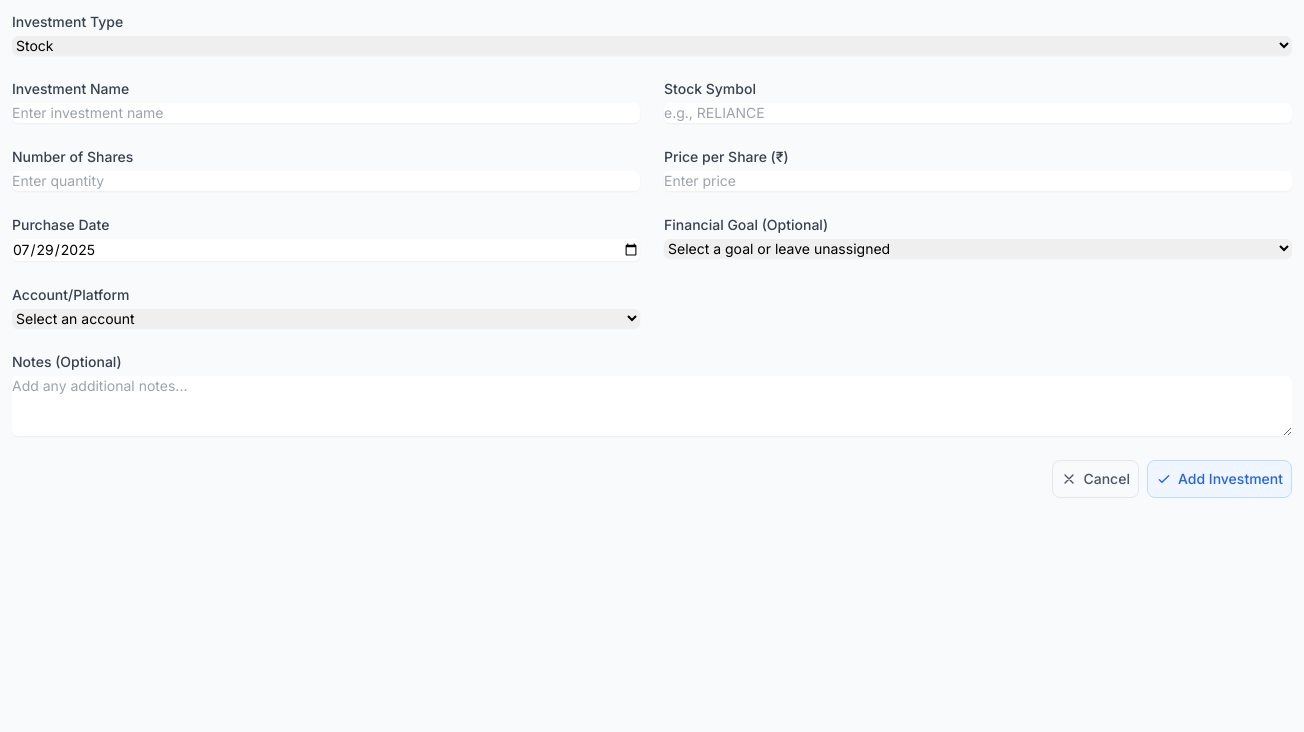
InvestmentForm › Form Validation › clears field errors when user starts typing
The width and height of the screenshot is (1304, 732).
Note: Trigger validation error
Click the button "Add Investment" at (1220, 479), box [1147,460,1292,498]
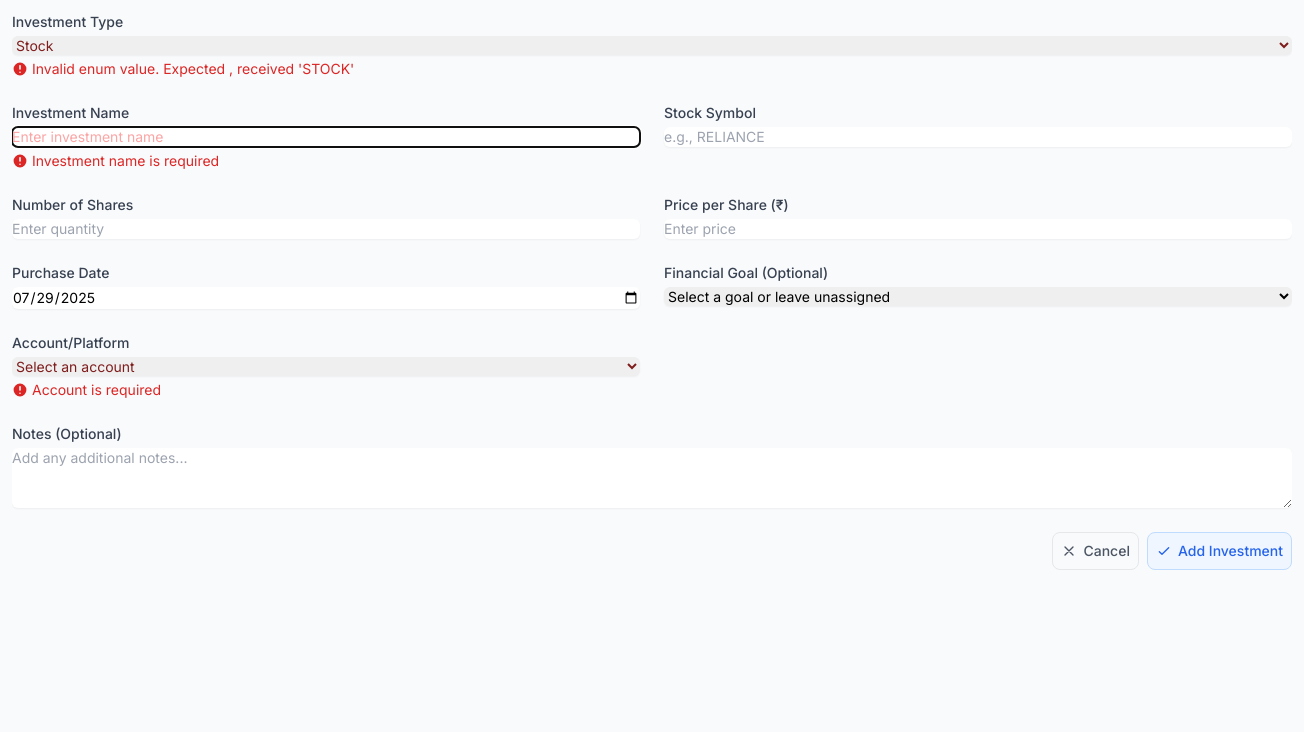
Now the text "Investment name is required" is shown, box [32,151,219,171]
Note: Start typing in the name field
Type "Test" into the field labelled "Investment Name" at (326, 137), box [12,127,640,147]
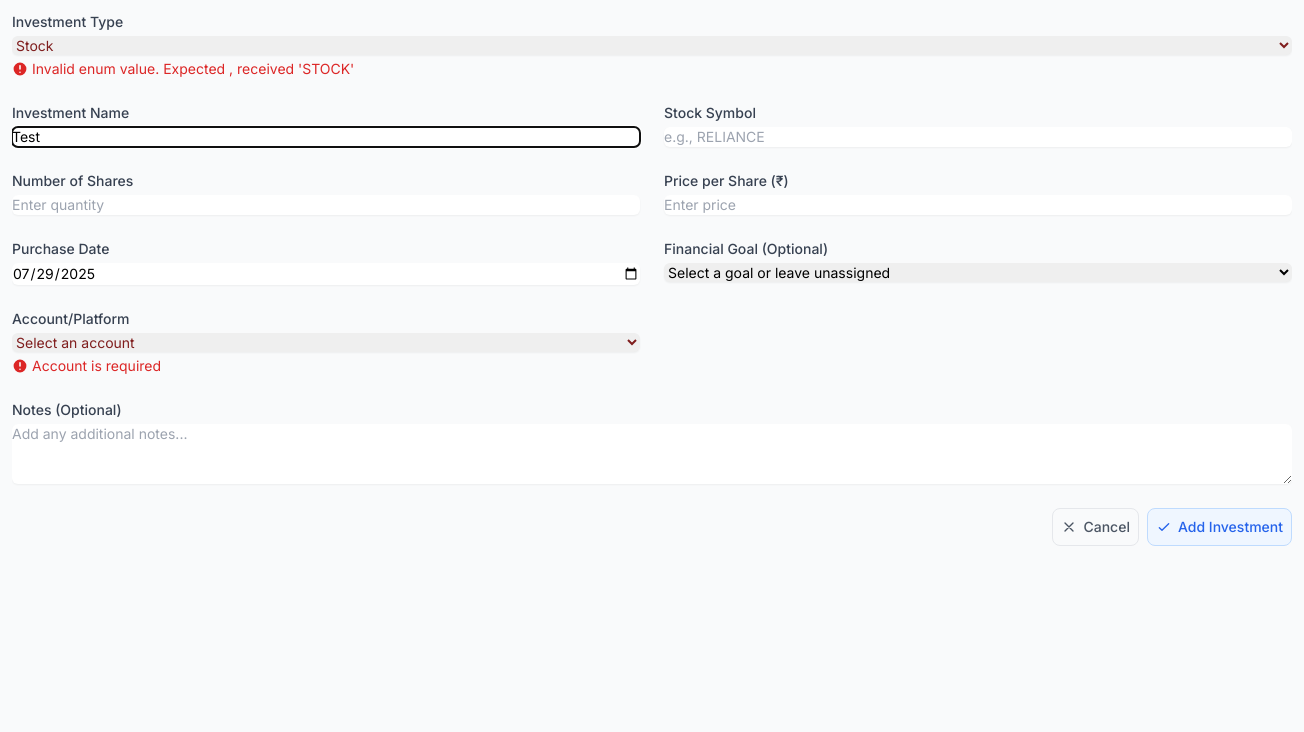
Now the text "Investment name is required" is gone
